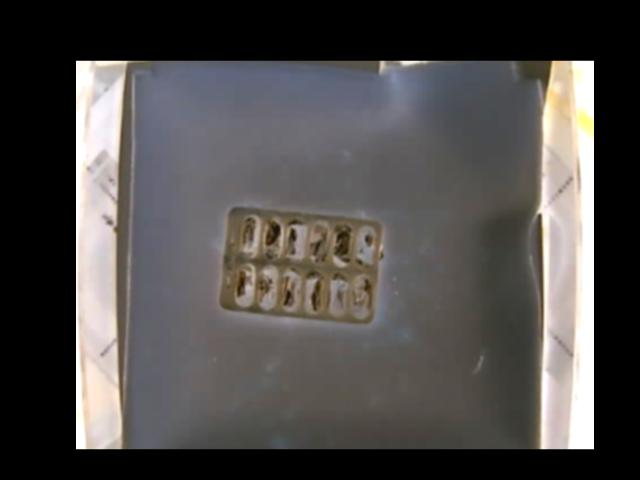Medicine: (220, 205, 381, 323)
